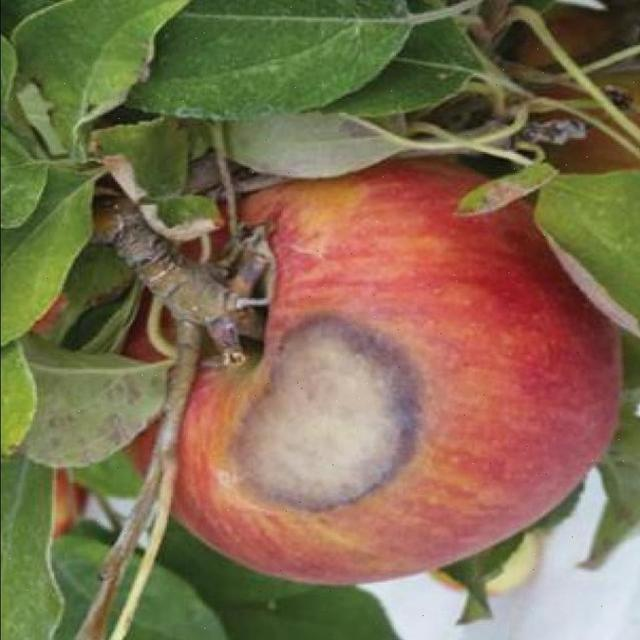Sunscald Fruit: (152, 210, 286, 355)
